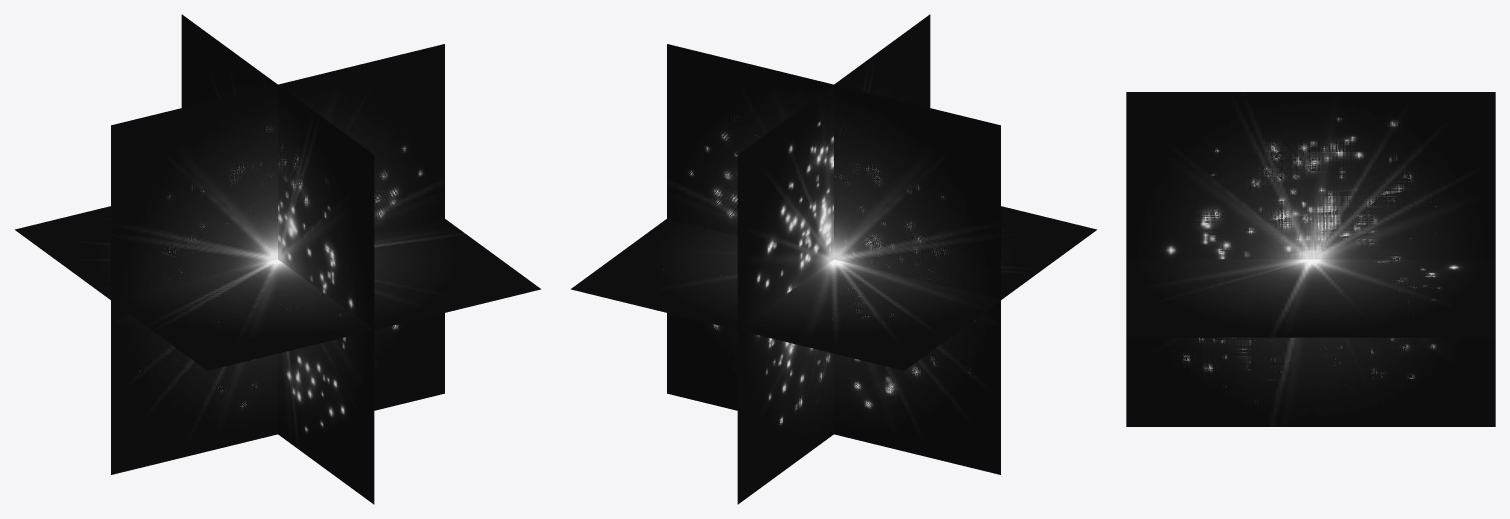
Rendered from si_eos_1100.glb.
3 renders of one model, left to right at view 1: azimuth 30°, elevation 25°; view 2: azimuth 150°, elevation 25°; view 3: azimuth 270°, elevation 25°, orthographic. The views are drawn at different scales.
Visible parts, largest first — view 1: layer_00_si_est_0000, layer_01_si_est_0200; view 2: layer_00_si_est_0000, layer_01_si_est_0200; view 3: layer_00_si_est_0000, layer_01_si_est_0200.
Part boxes in pixels (x1,y1,x2,y2): layer_00_si_est_0000: [15, 14, 540, 504]; layer_01_si_est_0200: [139, 126, 424, 433]; layer_00_si_est_0000: [571, 14, 1096, 504]; layer_01_si_est_0200: [687, 117, 970, 426]; layer_00_si_est_0000: [1126, 92, 1495, 426]; layer_01_si_est_0200: [1162, 117, 1464, 378].
Size of the model in its own units: 8 by 8 by 8.
2 materials, 2 textured.
